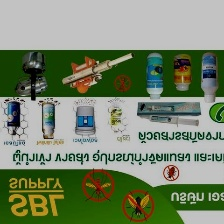insecticide: (199, 49, 220, 105), (136, 101, 203, 118), (143, 50, 165, 101), (169, 52, 192, 91), (72, 102, 97, 136), (139, 113, 202, 126), (5, 100, 23, 136), (38, 103, 57, 136), (104, 104, 122, 128)
